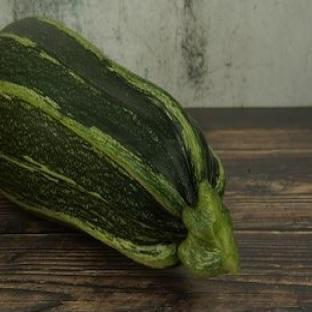Zucchini: (0, 18, 238, 275)
